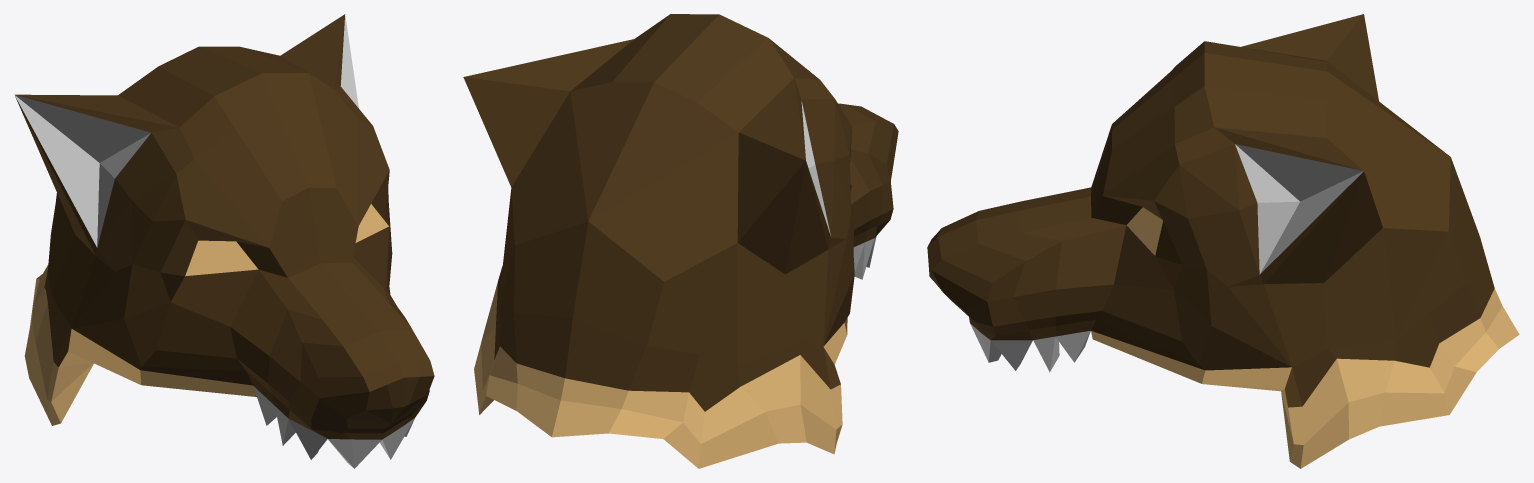
Rendered from Icon.fbx.
3 renders of one model, left to right at view 1: azimuth 30°, elevation 25°; view 2: azimuth 150°, elevation 25°; view 3: azimuth 270°, elevation 25°, orthographic. The views are drawn at different scales.
Visible parts, largest first — view 1: wolf-Mask.009; view 2: wolf-Mask.009; view 3: wolf-Mask.009.
Boxes of the visible parts, box(x1,y1,x2,y2) form: wolf-Mask.009: box(14, 14, 434, 468); wolf-Mask.009: box(463, 14, 898, 468); wolf-Mask.009: box(927, 14, 1519, 468).
Bounding box in the file's own units: 25.91 × 26.16 × 41.29.
